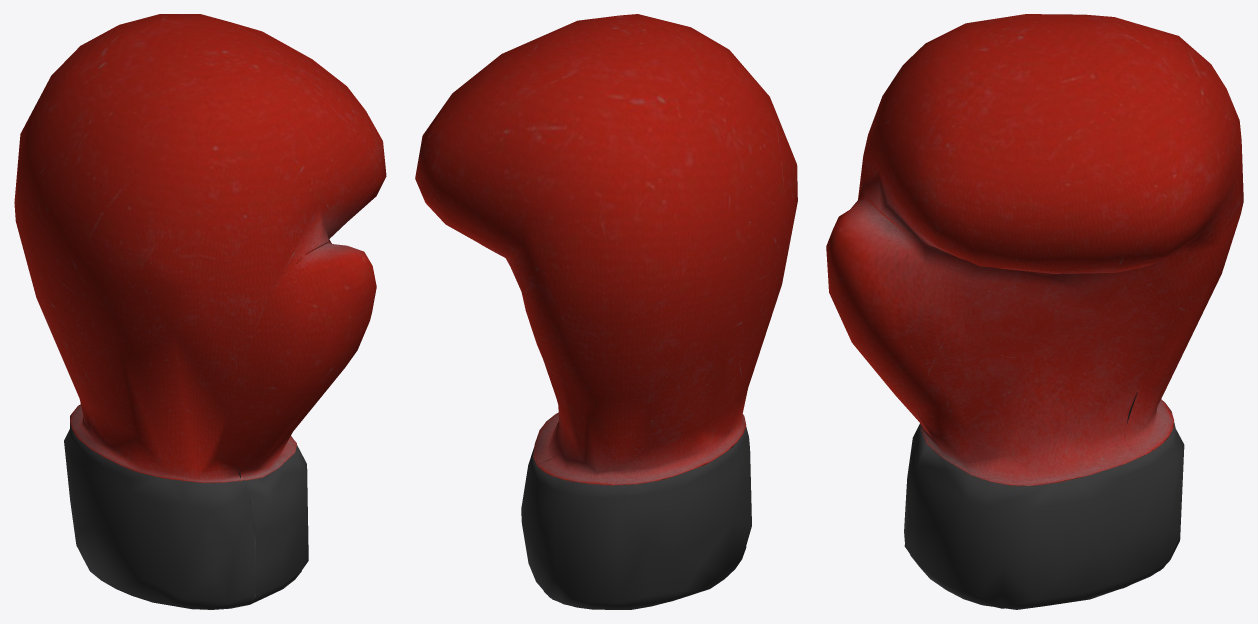
Rendered from SM_PropBoxingGlove.fbx.
3 renders of one model, left to right at view 1: azimuth 30°, elevation 25°; view 2: azimuth 150°, elevation 25°; view 3: azimuth 270°, elevation 25°, orthographic. The views are drawn at different scales.
Visible parts, largest first — view 1: Object_4; view 2: Object_4; view 3: Object_4.
Part boxes in pixels (x1=…): Object_4: x1=14, y1=14, x2=386, y2=609; Object_4: x1=415, y1=14, x2=797, y2=609; Object_4: x1=826, y1=14, x2=1243, y2=609.
Size of the model in its own units: 1.99 by 3.31 by 2.31.
1 material, 1 textured.
